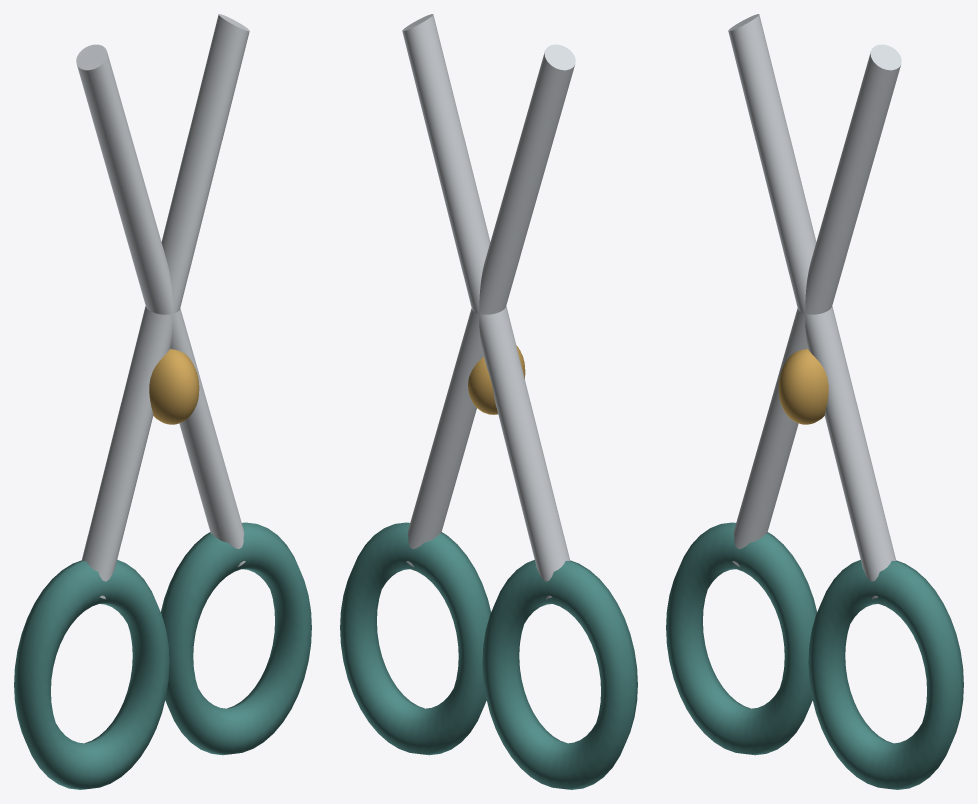
Rendered from wp-paire-de-ciseaux.glb.
The picture shows the model from 3 angles, left to right: view 1: azimuth 30°, elevation 25°; view 2: azimuth 150°, elevation 25°; view 3: azimuth 330°, elevation 25°; orthographic projection.
Parts seen in each view (by area): view 1: wp-paire-de-ciseaux; view 2: wp-paire-de-ciseaux; view 3: wp-paire-de-ciseaux.
Part boxes in pixels (x1,y1,x2,y2): wp-paire-de-ciseaux: [14, 14, 311, 789]; wp-paire-de-ciseaux: [340, 14, 637, 789]; wp-paire-de-ciseaux: [666, 14, 963, 789].
Bounding box in the file's own units: 0.07 × 0.17 × 0.015.
